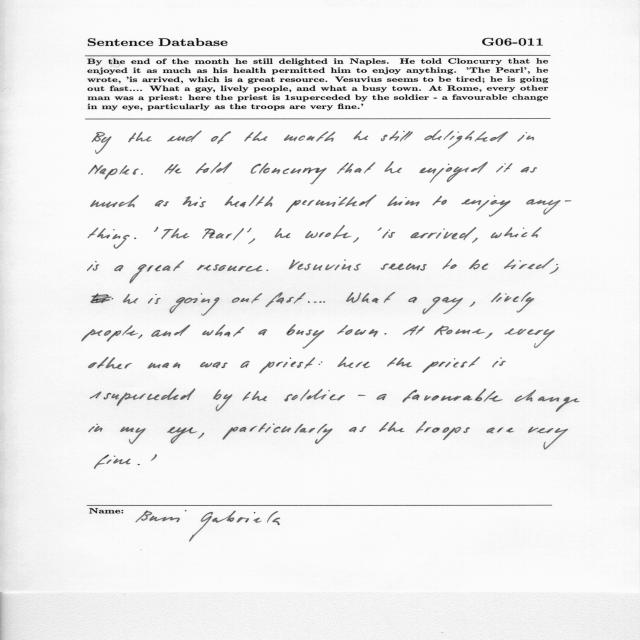word: (223, 423, 333, 444), (90, 388, 196, 406), (286, 195, 376, 213), (251, 163, 327, 184), (425, 130, 508, 148), (419, 162, 488, 183), (515, 390, 580, 412), (403, 389, 503, 403), (130, 261, 185, 284), (170, 293, 220, 316), (461, 195, 511, 217), (416, 422, 470, 441), (504, 328, 555, 348), (82, 325, 138, 342), (259, 357, 315, 374), (423, 357, 481, 373), (88, 227, 130, 249), (528, 427, 568, 450), (287, 325, 325, 349), (491, 292, 534, 313), (289, 259, 361, 271), (411, 227, 477, 240), (89, 165, 139, 180), (284, 389, 345, 401), (526, 199, 571, 215), (422, 297, 463, 314), (305, 225, 352, 239), (91, 195, 139, 208), (265, 292, 306, 307), (225, 195, 273, 207), (284, 131, 335, 142), (491, 227, 542, 238), (504, 259, 554, 270), (346, 292, 395, 303), (88, 357, 132, 369), (197, 264, 262, 272), (202, 325, 245, 337), (434, 326, 485, 336), (167, 427, 197, 444), (202, 228, 244, 240), (95, 455, 131, 469), (337, 325, 378, 337), (337, 162, 376, 174), (152, 325, 191, 337), (120, 427, 146, 444), (92, 132, 112, 154), (196, 162, 232, 174), (167, 130, 202, 142), (213, 390, 232, 411), (381, 263, 427, 271), (338, 357, 371, 368), (381, 131, 413, 142), (387, 196, 420, 206), (162, 228, 190, 239), (232, 293, 262, 303), (211, 131, 231, 144), (379, 422, 405, 432), (183, 196, 206, 207), (387, 358, 412, 368), (243, 391, 268, 401), (128, 132, 152, 142), (245, 132, 268, 142), (148, 362, 180, 369), (91, 294, 113, 304), (403, 326, 425, 336), (384, 162, 402, 174), (469, 259, 488, 270), (518, 132, 535, 142), (165, 164, 182, 174), (200, 362, 228, 368), (486, 428, 514, 434), (442, 259, 457, 270), (496, 163, 513, 172), (432, 196, 447, 206), (275, 228, 290, 238), (123, 294, 138, 304), (148, 294, 161, 304), (493, 358, 506, 368), (354, 131, 368, 140), (87, 261, 99, 271), (383, 230, 396, 239), (89, 424, 102, 432), (349, 426, 366, 432), (549, 264, 559, 274), (155, 200, 169, 207), (521, 167, 537, 173), (240, 361, 250, 368), (114, 265, 124, 271), (377, 394, 387, 400), (408, 297, 417, 303), (258, 329, 267, 335), (248, 238, 255, 244), (485, 333, 492, 339), (353, 237, 359, 243), (198, 433, 204, 439), (151, 455, 157, 461), (472, 238, 478, 243), (470, 302, 476, 307), (308, 301, 322, 303), (154, 227, 158, 232), (247, 228, 252, 232), (138, 335, 143, 339), (378, 227, 382, 231), (319, 361, 323, 365), (358, 395, 365, 396), (141, 173, 143, 175), (267, 269, 269, 271), (323, 301, 325, 303), (385, 333, 387, 335), (137, 464, 140, 465), (135, 238, 137, 239)
